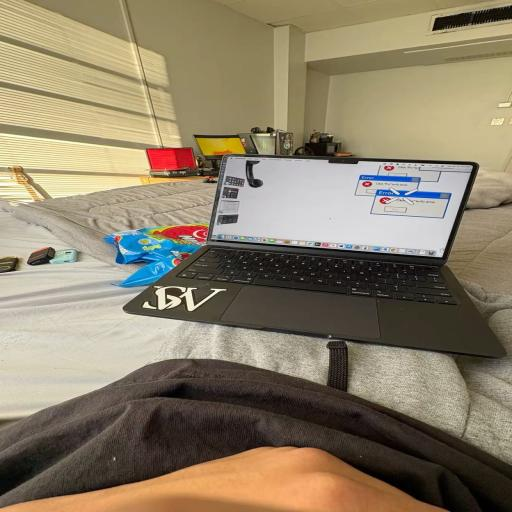corridor: (123, 154, 507, 358)
